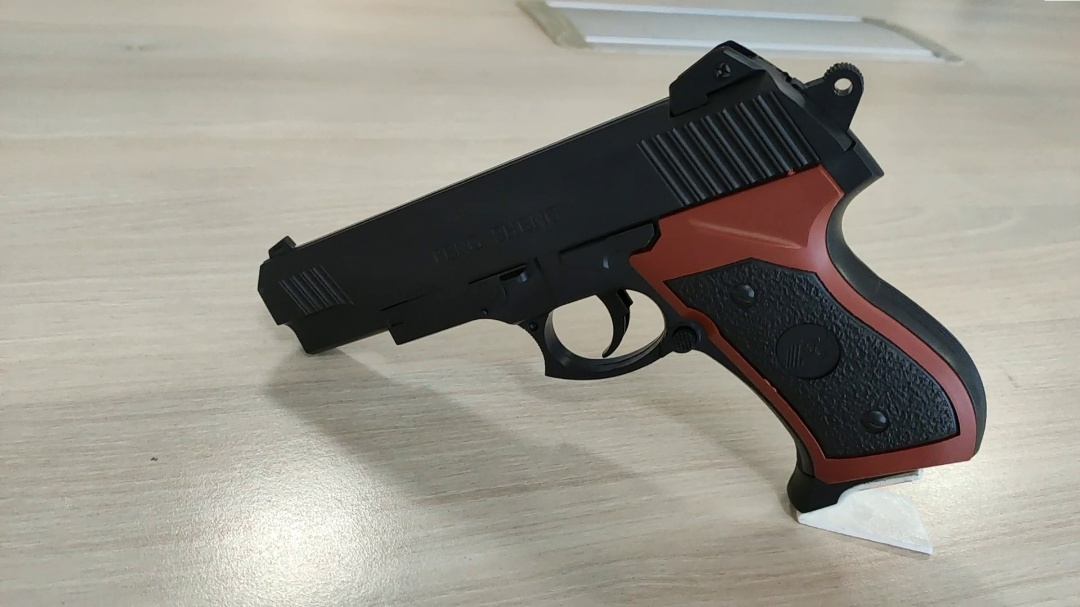gun: (597, 201, 718, 322)
